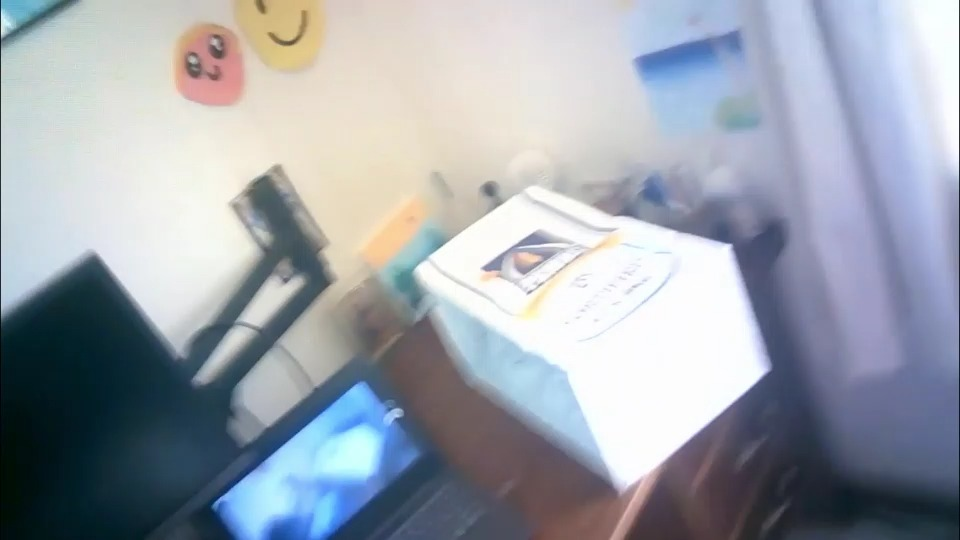wheat_flour_blue_label: (414, 181, 774, 492)
